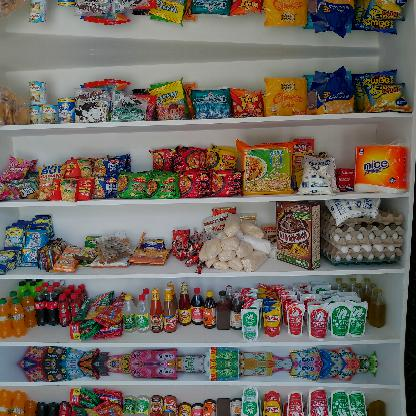Koko-Krunch: (274, 199, 322, 271)
